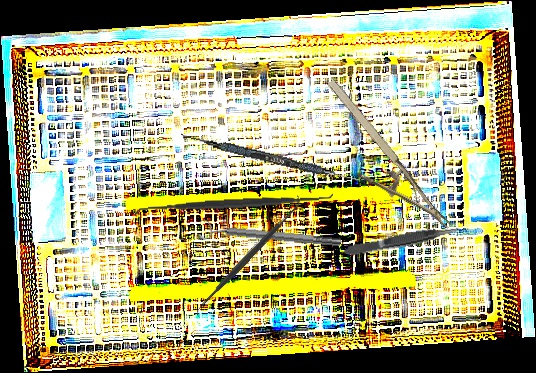Fixation Ring: (198, 217, 342, 255)
Needle Holder: (302, 75, 453, 253)
Spatula Surgical: (187, 194, 310, 319), (179, 132, 372, 187), (133, 187, 334, 221)
Tissue Forceps: (342, 222, 463, 258)
